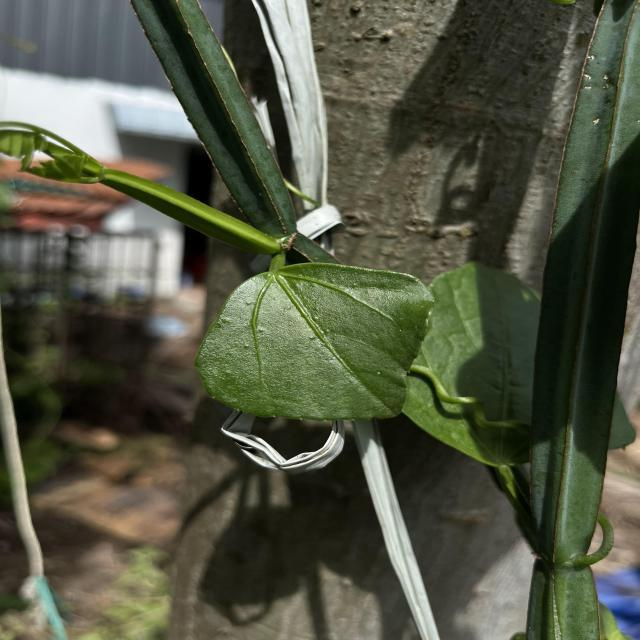Cissus quadrangularis: (191, 258, 440, 426)
